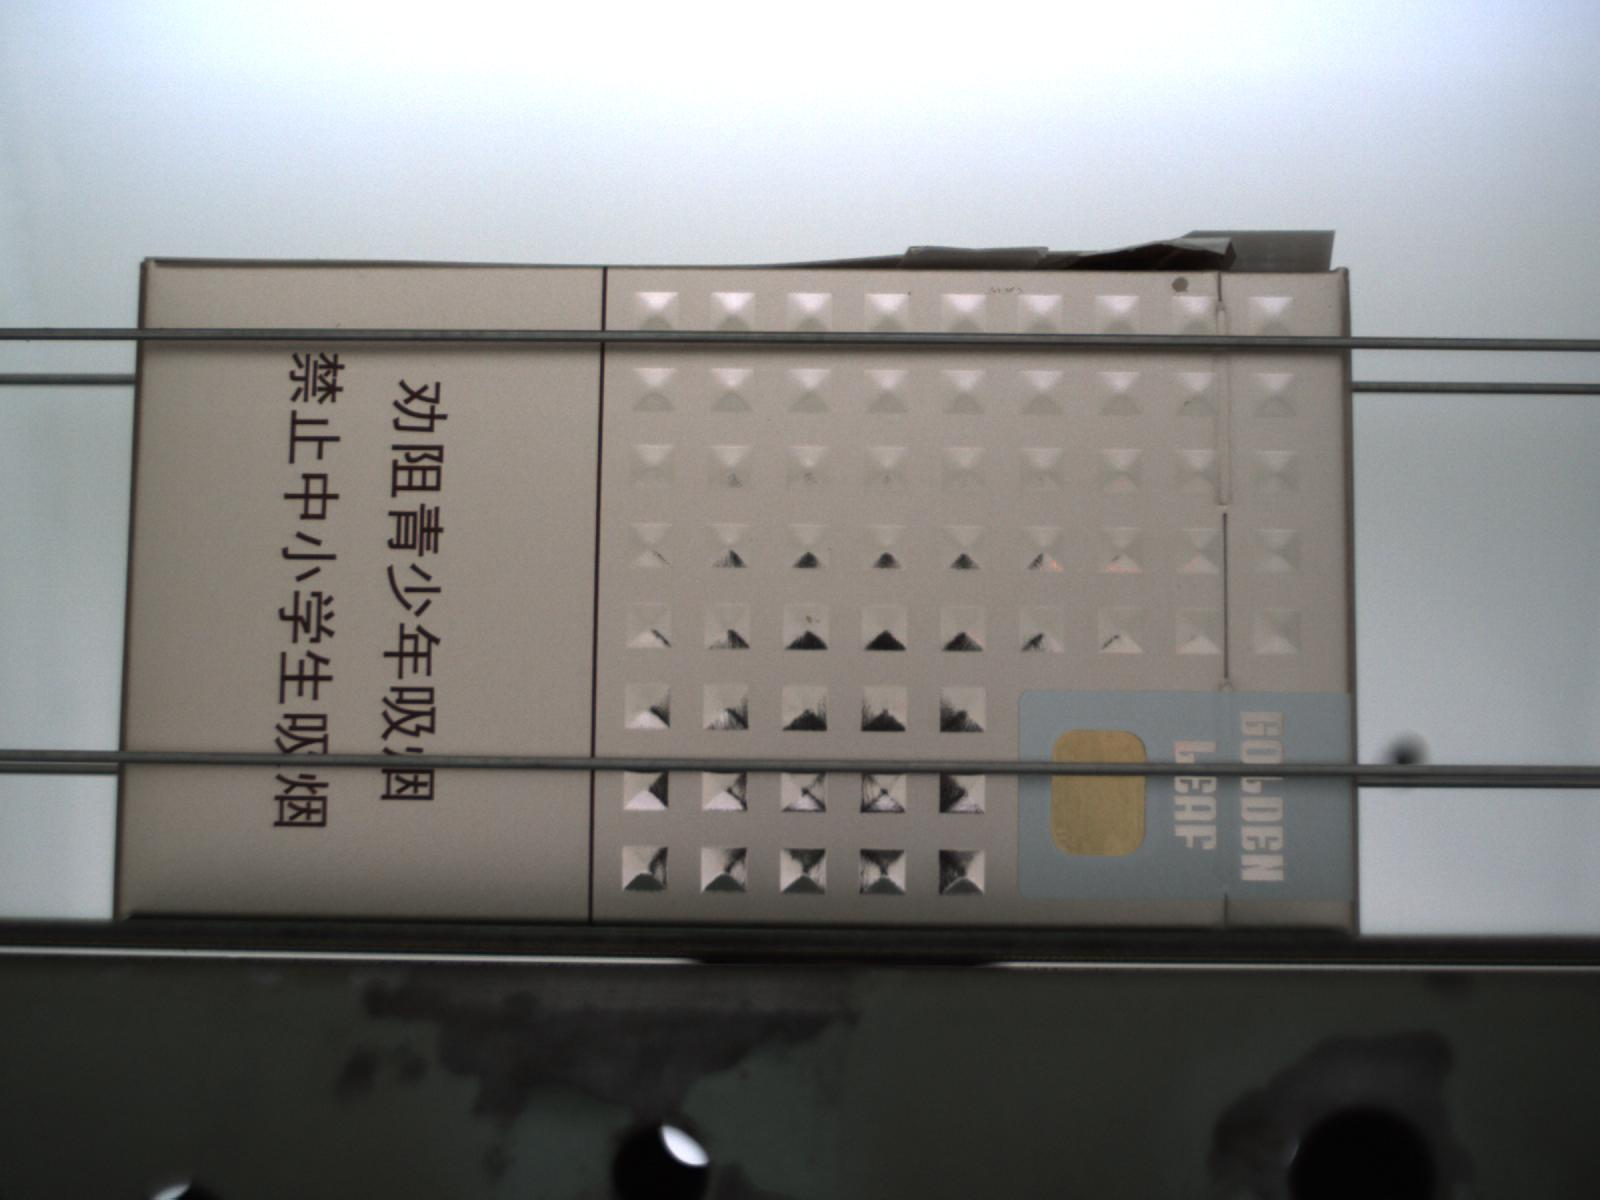dirtySpot: (1169, 277, 1192, 296)
headUpwarp_upper_01: (806, 225, 1342, 279)
